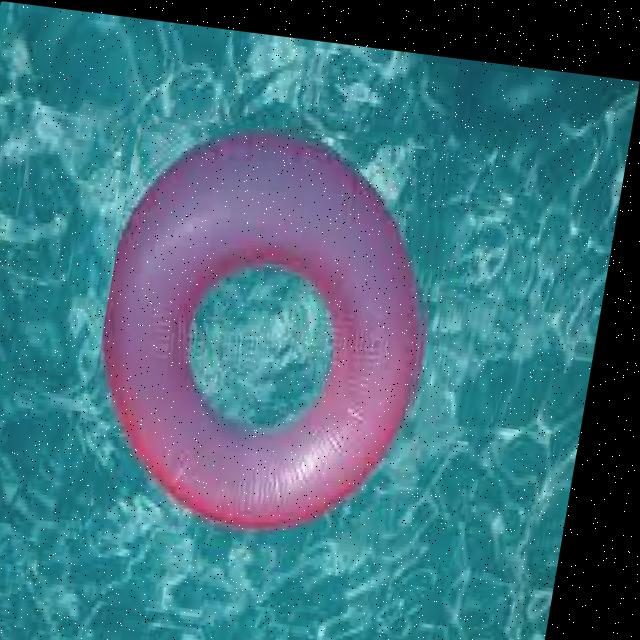litter: (112, 119, 431, 518)
